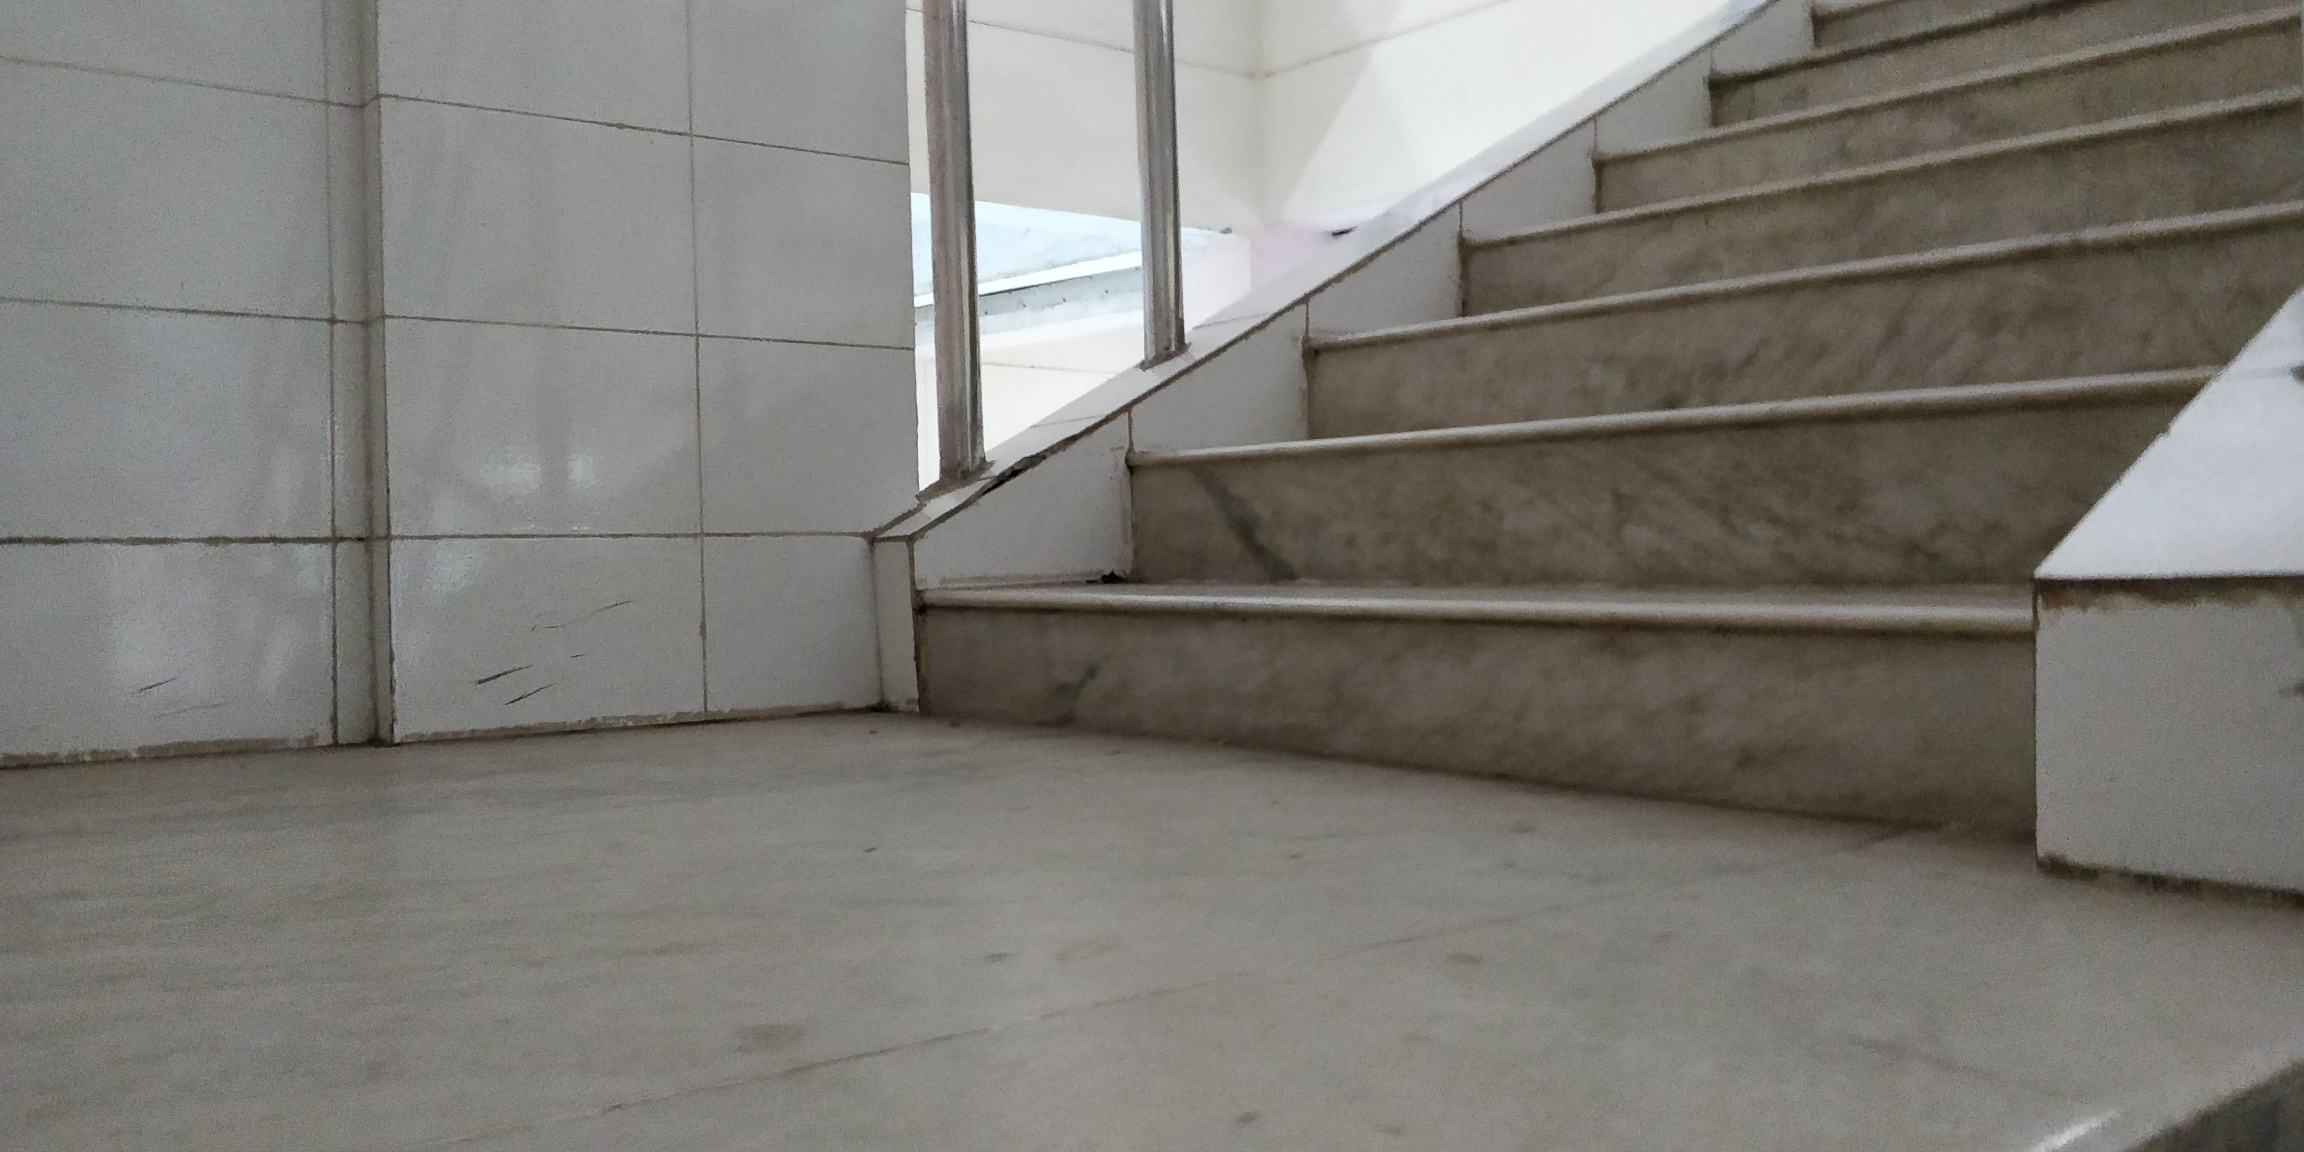stairs_up: (840, 4, 2300, 845)
